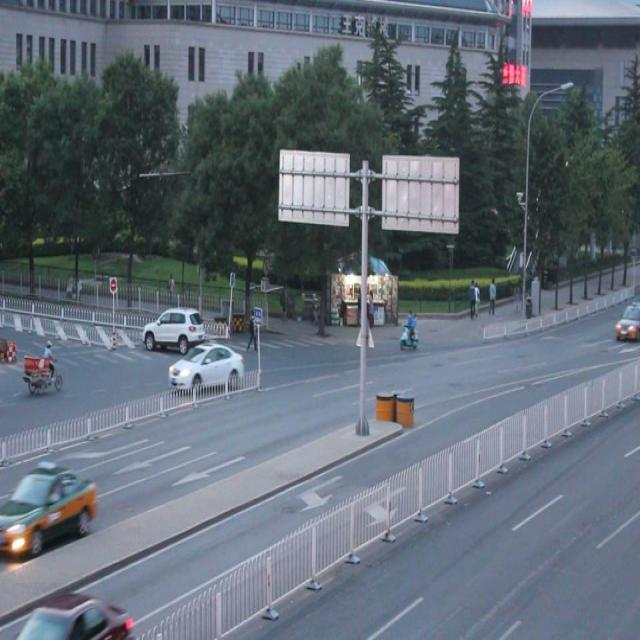car: (1, 460, 98, 562), (20, 590, 130, 640), (170, 342, 242, 389), (142, 307, 204, 352), (612, 301, 640, 335)
